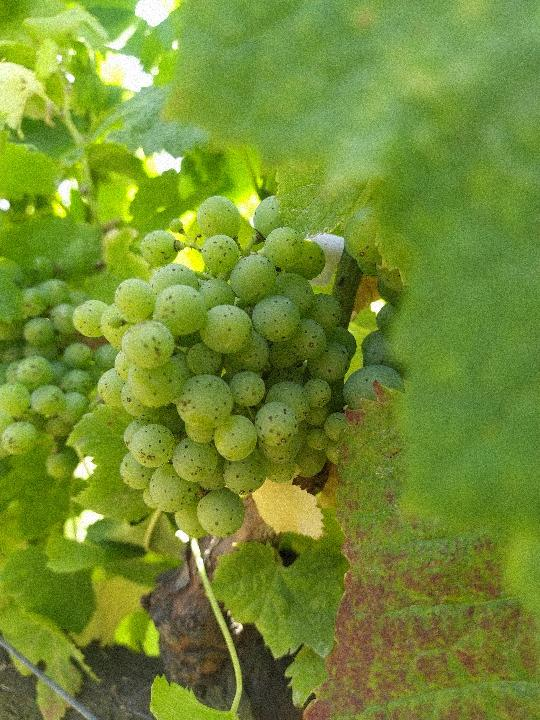grape: (72, 190, 362, 542)
